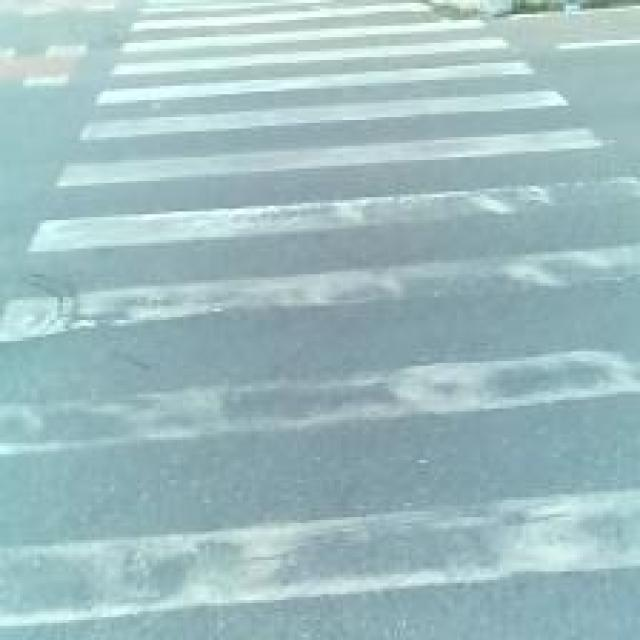zebra: (124, 28, 487, 566)
